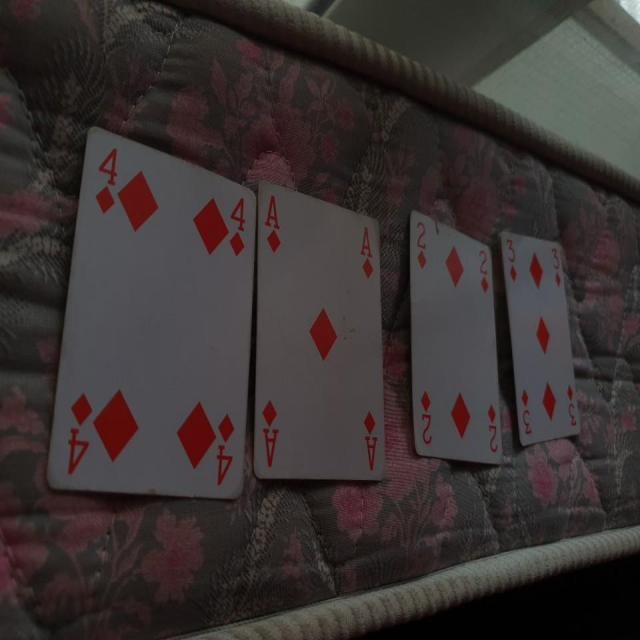2 Diamonds: (404, 203, 509, 468)
3 Diamonds: (497, 231, 584, 450)
4 Diamonds: (45, 121, 255, 506)
A Diamonds: (255, 178, 387, 485)
